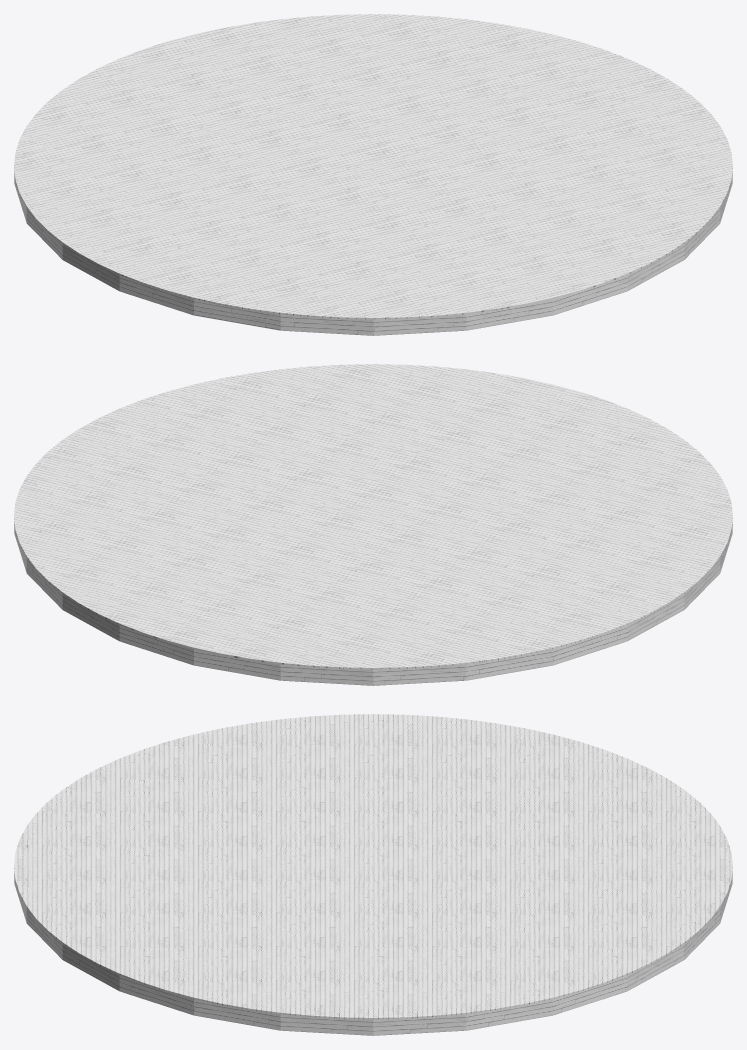
File: addOn_PlatformWood.dae
The picture shows the model from 3 angles, top to bottom: view 1: azimuth 30°, elevation 25°; view 2: azimuth 150°, elevation 25°; view 3: azimuth 270°, elevation 25°; orthographic projection.
Visible parts, largest first — view 1: SketchUp (×3); view 2: SketchUp (×3); view 3: SketchUp (×3).
Part boxes in pixels (x1=…): SketchUp (×3): x1=14, y1=14, x2=732, y2=335; SketchUp (×3): x1=14, y1=364, x2=732, y2=685; SketchUp (×3): x1=14, y1=714, x2=732, y2=1035.
Size of the model in its own units: 864 by 864 by 24.
2 materials, 2 textured.
